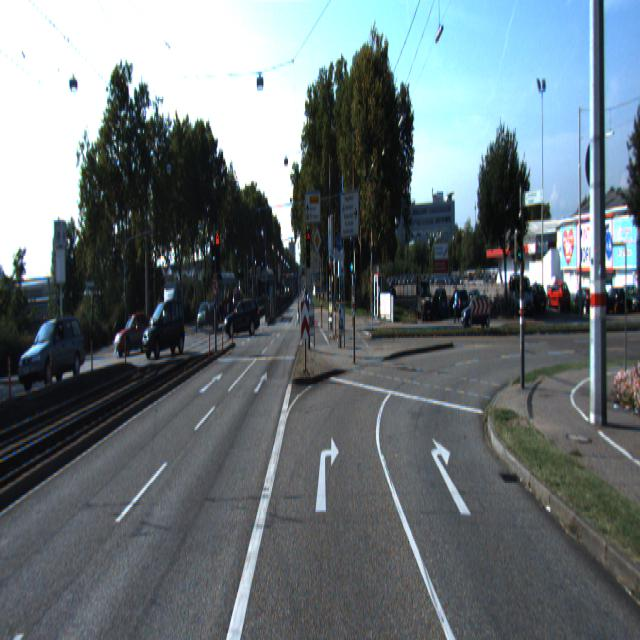Car: (19, 315, 90, 395), (142, 299, 186, 361), (114, 310, 158, 359), (222, 295, 262, 340), (459, 289, 492, 327)
